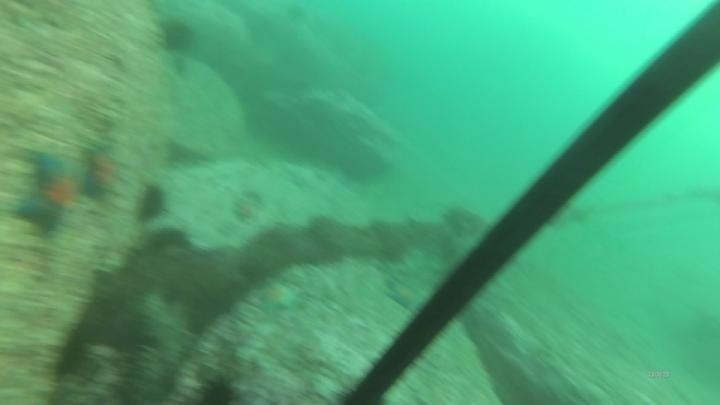echinus: (155, 16, 198, 57), (133, 181, 171, 226), (194, 374, 242, 404)
starfish: (10, 147, 92, 239), (79, 141, 129, 203), (252, 277, 305, 316), (383, 275, 429, 316)
